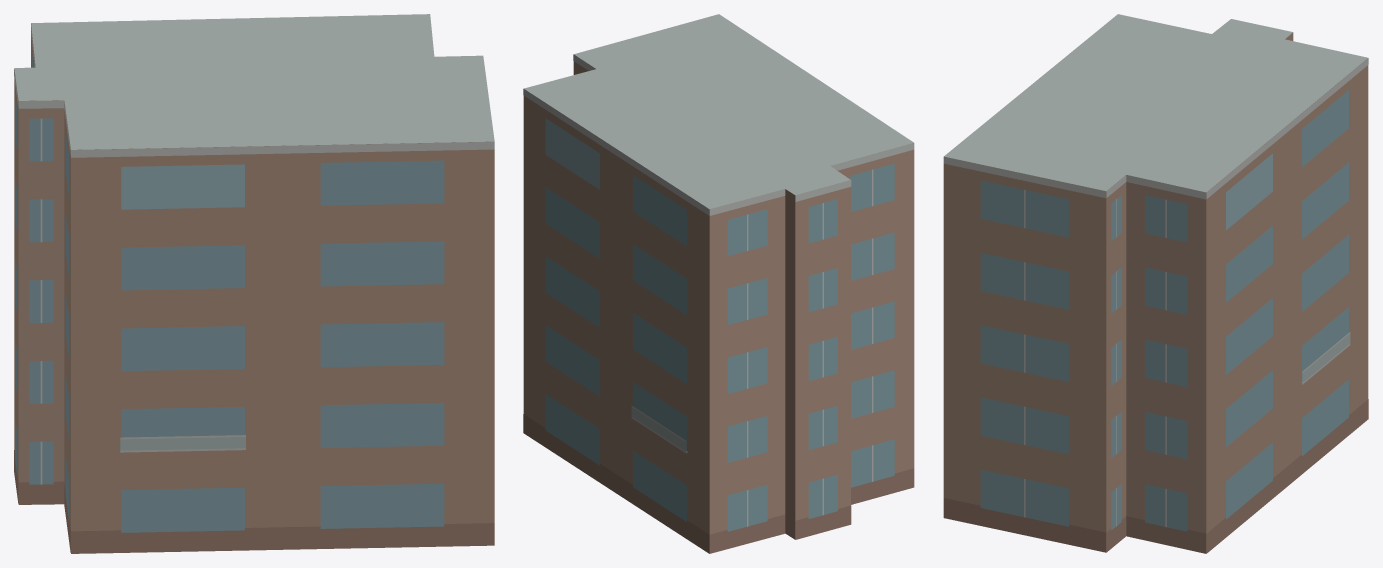
Rendered from survey-upis-32893918.glb.
3 views of the same model, side by side, from view 1: azimuth 30°, elevation 25°; view 2: azimuth 150°, elevation 25°; view 3: azimuth 270°, elevation 25° (orthographic). The views are drawn at different scales.
Parts seen in each view (by area): view 1: survey-upis-32893918.tmp; view 2: survey-upis-32893918.tmp; view 3: survey-upis-32893918.tmp.
Boxes of the visible parts, left/top/right/bottom form: survey-upis-32893918.tmp: left=14, top=14, right=494, bottom=553; survey-upis-32893918.tmp: left=523, top=14, right=914, bottom=553; survey-upis-32893918.tmp: left=943, top=14, right=1368, bottom=553.
Bounding box in the file's own units: 13.25 × 12.5 × 13.32.
